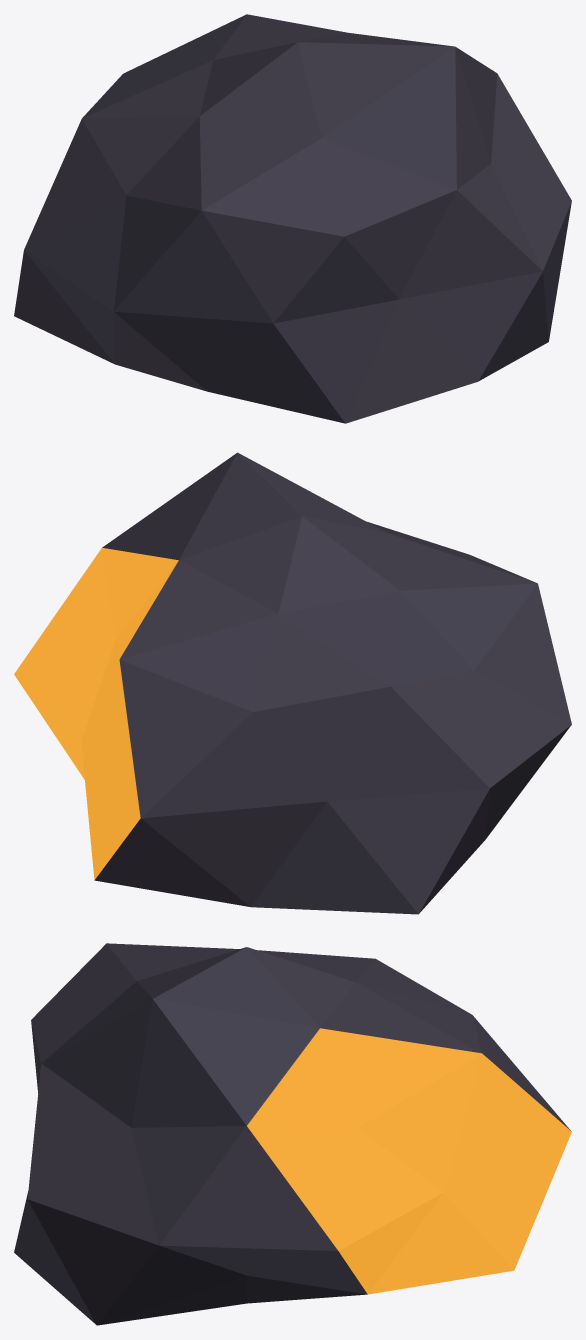
Rendered from Ore_B.fbx.
3 views of the same model, one above another, from view 1: azimuth 30°, elevation 25°; view 2: azimuth 150°, elevation 25°; view 3: azimuth 270°, elevation 25° (orthographic).
Parts seen in each view (by area): view 1: Ore; view 2: Ore; view 3: Ore.
Boxes of the visible parts, bbox=[...] form: Ore: bbox=[14, 14, 571, 423]; Ore: bbox=[14, 452, 571, 914]; Ore: bbox=[14, 943, 571, 1325].
Size of the model in its own units: 0.3163 by 0.3204 by 0.1863.
